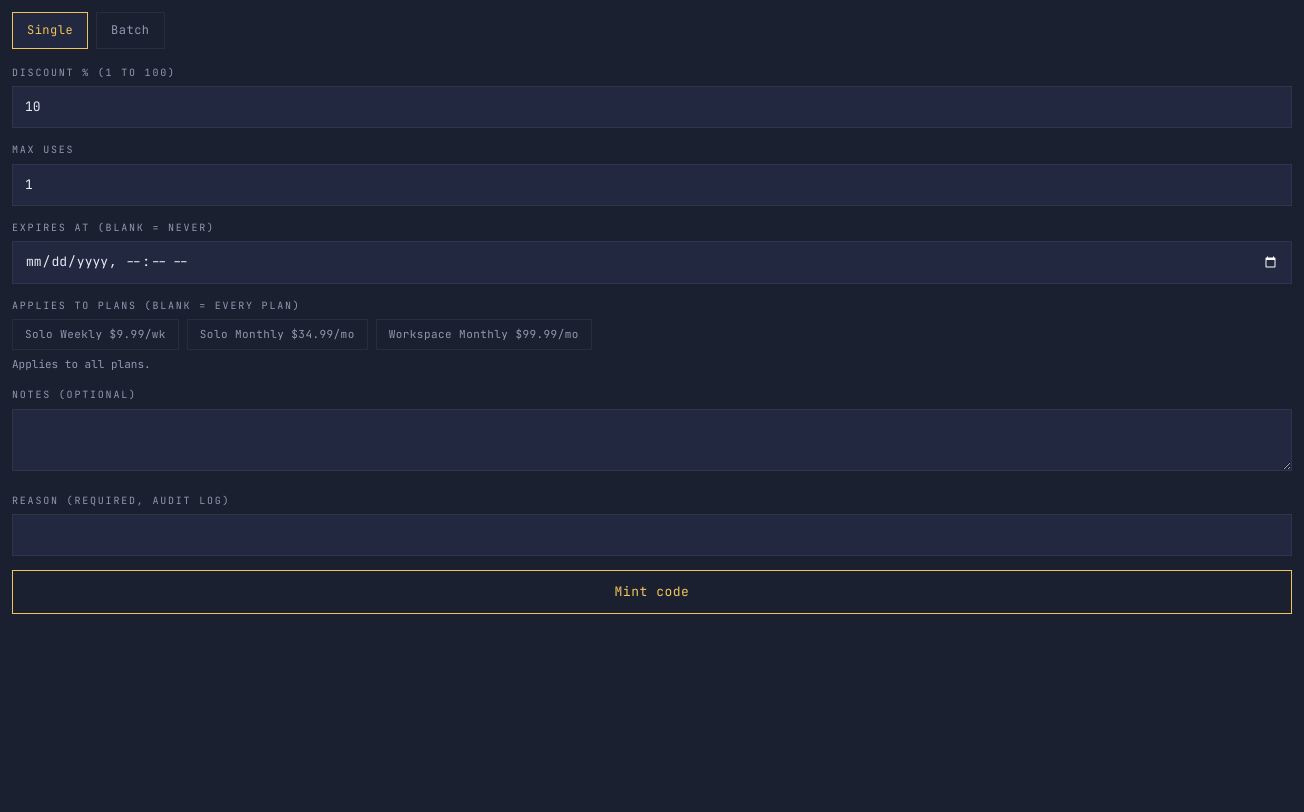
MintDiscountCodeForm › rejects submit when reason is missing
The image size is (1304, 812).
Click the button "Mint code": (652, 592) x1=12 y1=570 x2=1292 y2=614
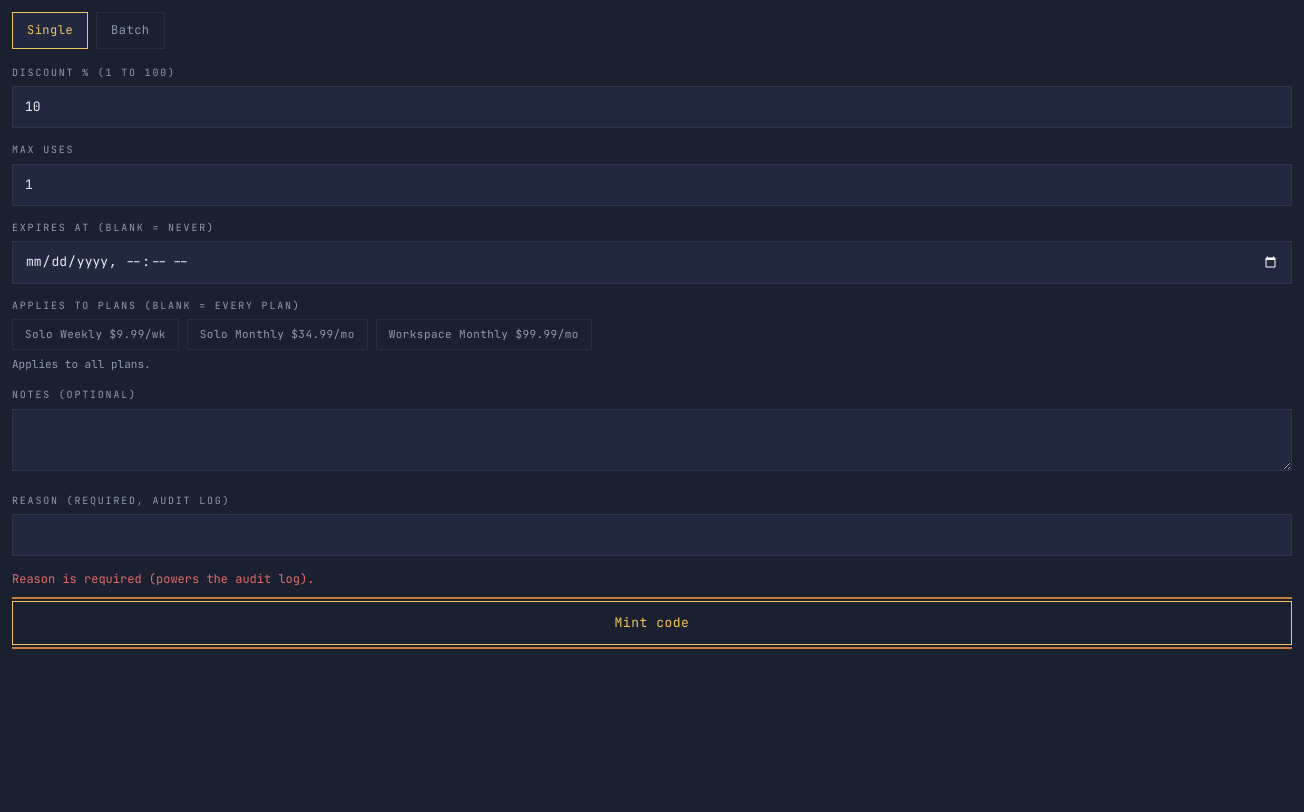
Check: the message shows "Reason is required", box x1=12 y1=571 x2=314 y2=587
